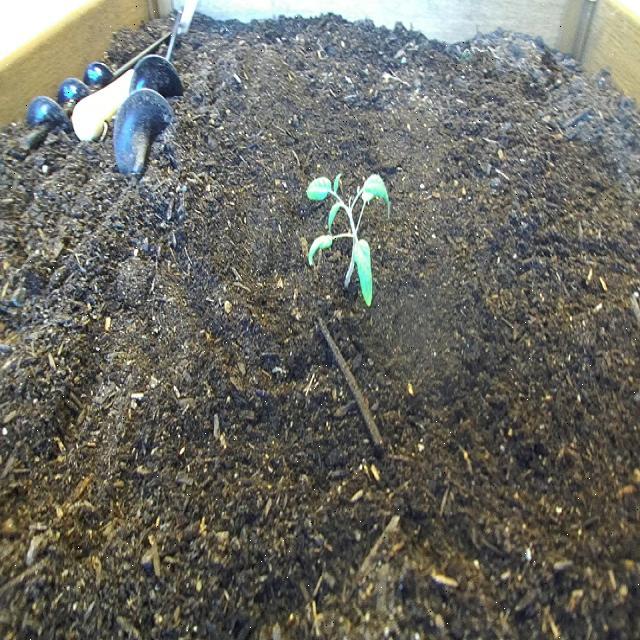Healthy: (304, 169, 394, 311)
